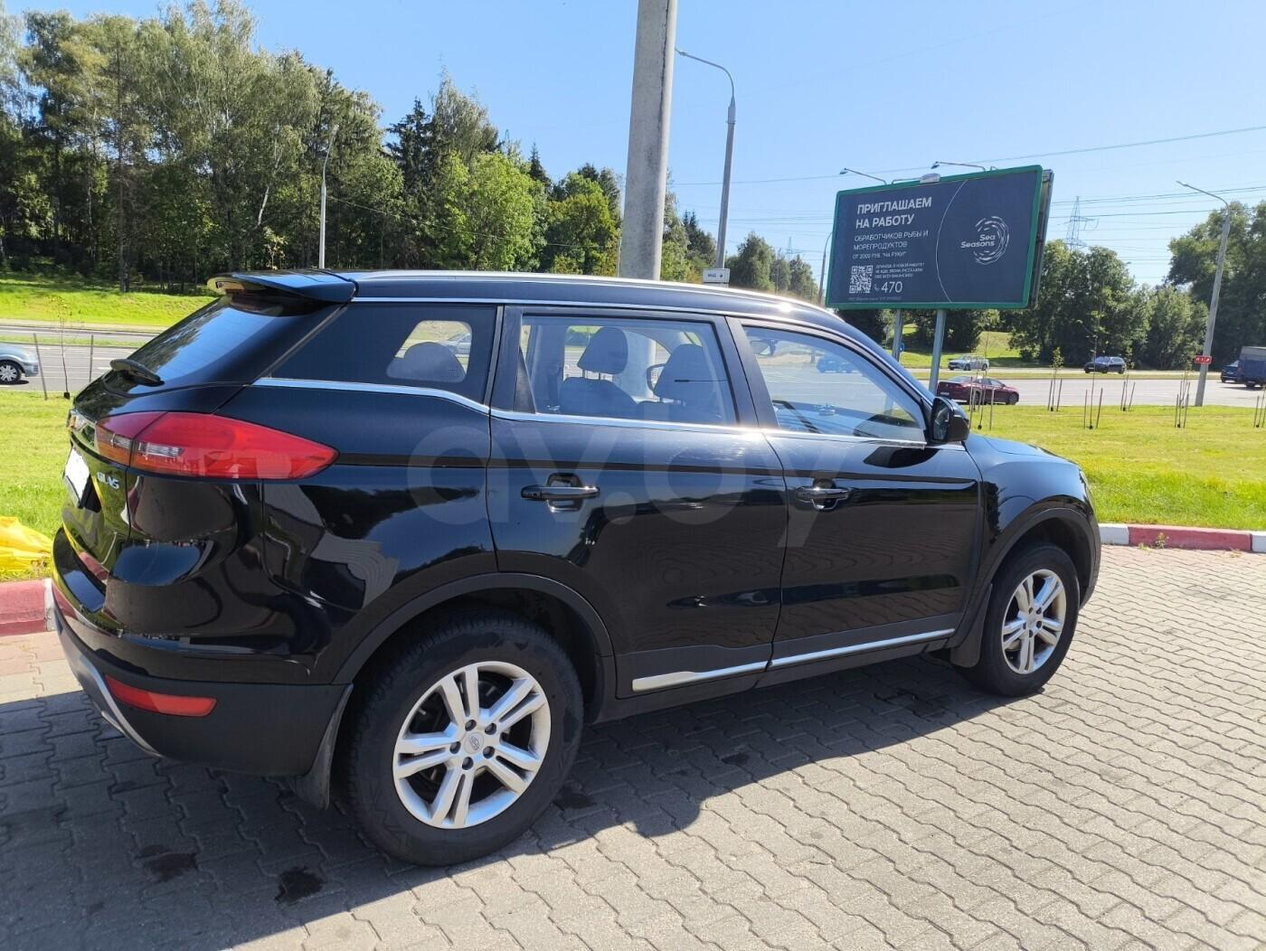Atlas_2016-2023: (47, 257, 1103, 867)
